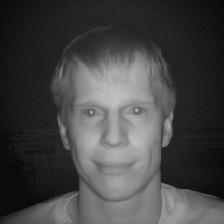happy: (46, 24, 185, 201)
